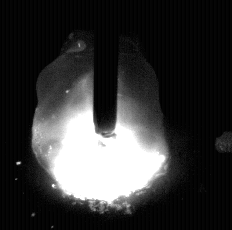arame: (93, 0, 119, 137)
poca: (30, 0, 168, 230)
